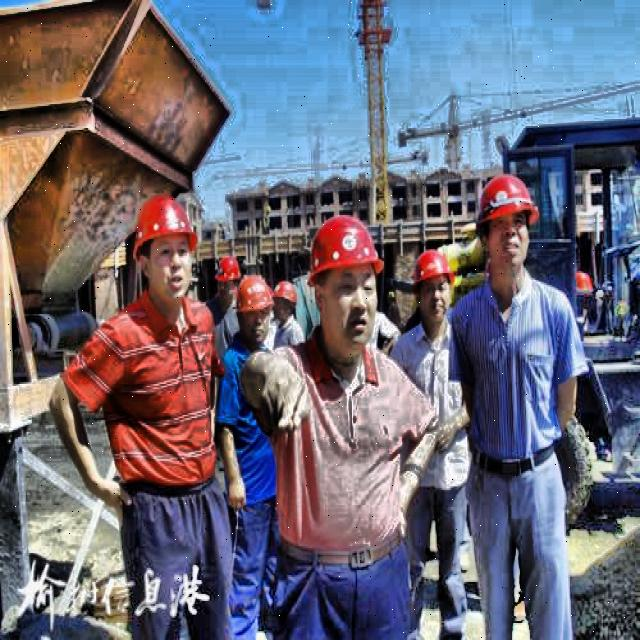helmet: (293, 210, 380, 340), (126, 187, 200, 310), (475, 166, 541, 286), (410, 248, 454, 326), (237, 274, 269, 336), (272, 276, 300, 326), (214, 254, 238, 302)
